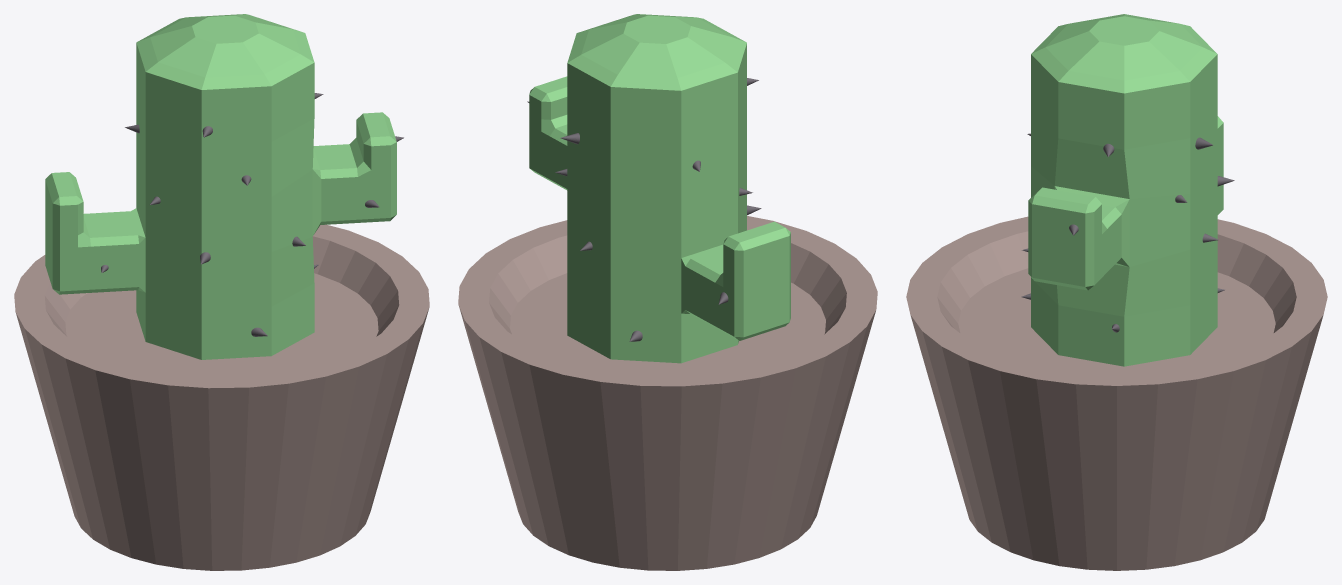
File: Cactus.fbx
3 renders of one model, left to right at view 1: azimuth 30°, elevation 25°; view 2: azimuth 150°, elevation 25°; view 3: azimuth 270°, elevation 25°, orthographic.
Visible parts, largest first — view 1: Cylinder, Circle; view 2: Cylinder, Circle; view 3: Cylinder, Circle.
Part boxes in pixels (<box>): Cylinder: <box>14,224,429,570</box>; Circle: <box>45,14,396,359</box>; Cylinder: <box>458,216,877,570</box>; Circle: <box>529,14,790,363</box>; Cylinder: <box>906,216,1327,570</box>; Circle: <box>1028,14,1223,366</box>.
Bounding box in the file's own units: 363 × 456 × 363.
